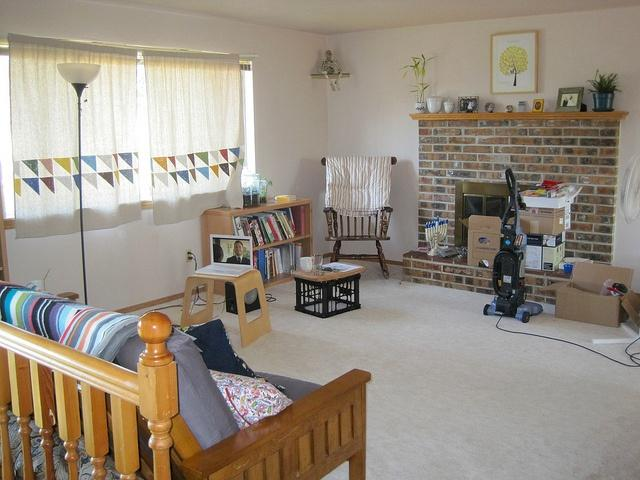Rak: (202, 196, 312, 288)
